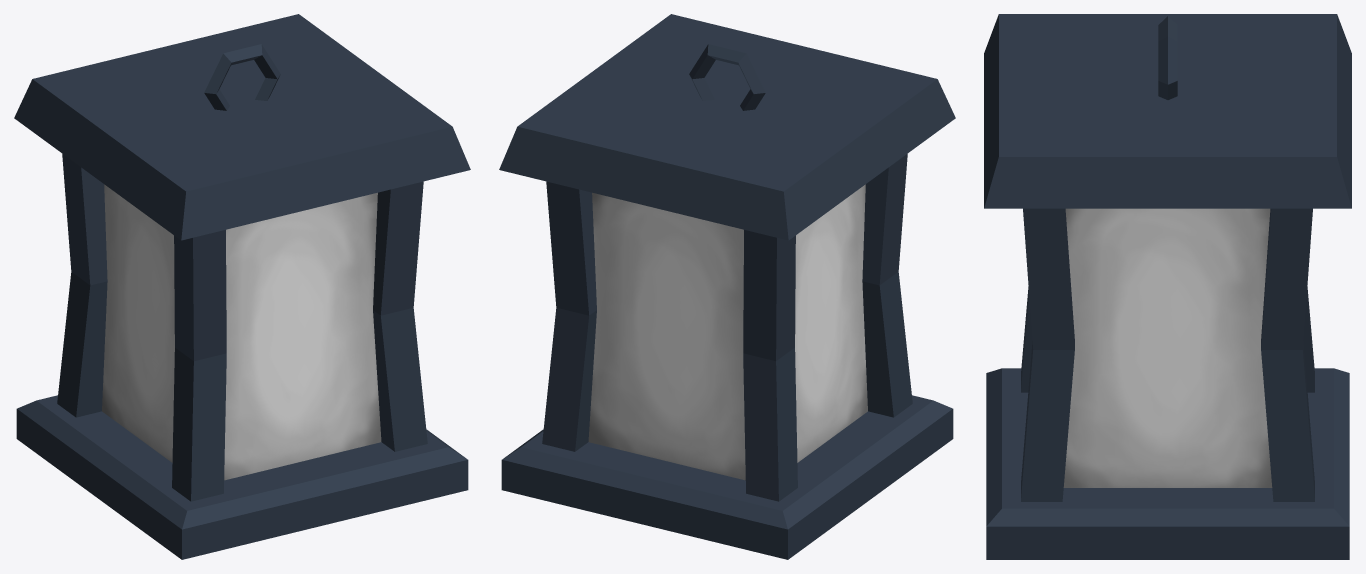
The model's file is Latern.fbx.
3 renders of one model, left to right at view 1: azimuth 30°, elevation 25°; view 2: azimuth 150°, elevation 25°; view 3: azimuth 270°, elevation 25°, orthographic. The views are drawn at different scales.
Visible parts, largest first — view 1: Latern; view 2: Latern; view 3: Latern.
Part boxes in pixels (x1,y1,x2,y2): Latern: [14, 14, 470, 559]; Latern: [499, 14, 955, 559]; Latern: [984, 14, 1351, 559].
Bounding box in the file's own units: 101 × 139 × 101.
2 materials, 1 textured.
